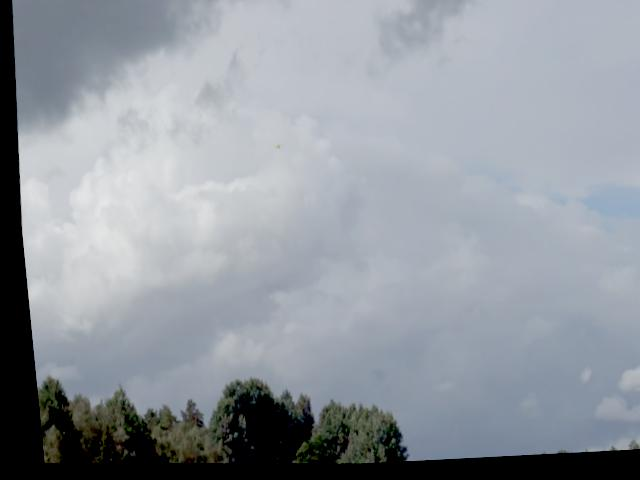plane: (267, 144, 281, 154)
